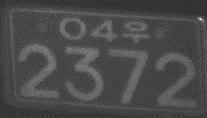0: (58, 15, 88, 41)
2: (154, 50, 197, 108), (17, 42, 59, 99)
3: (63, 45, 104, 102)
4: (89, 18, 118, 43)
7: (108, 47, 149, 105)
우: (121, 19, 149, 44)
